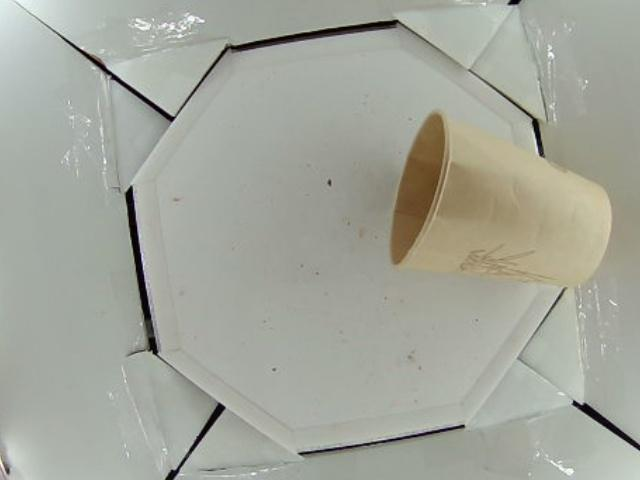Cup: (391, 108, 611, 284)
